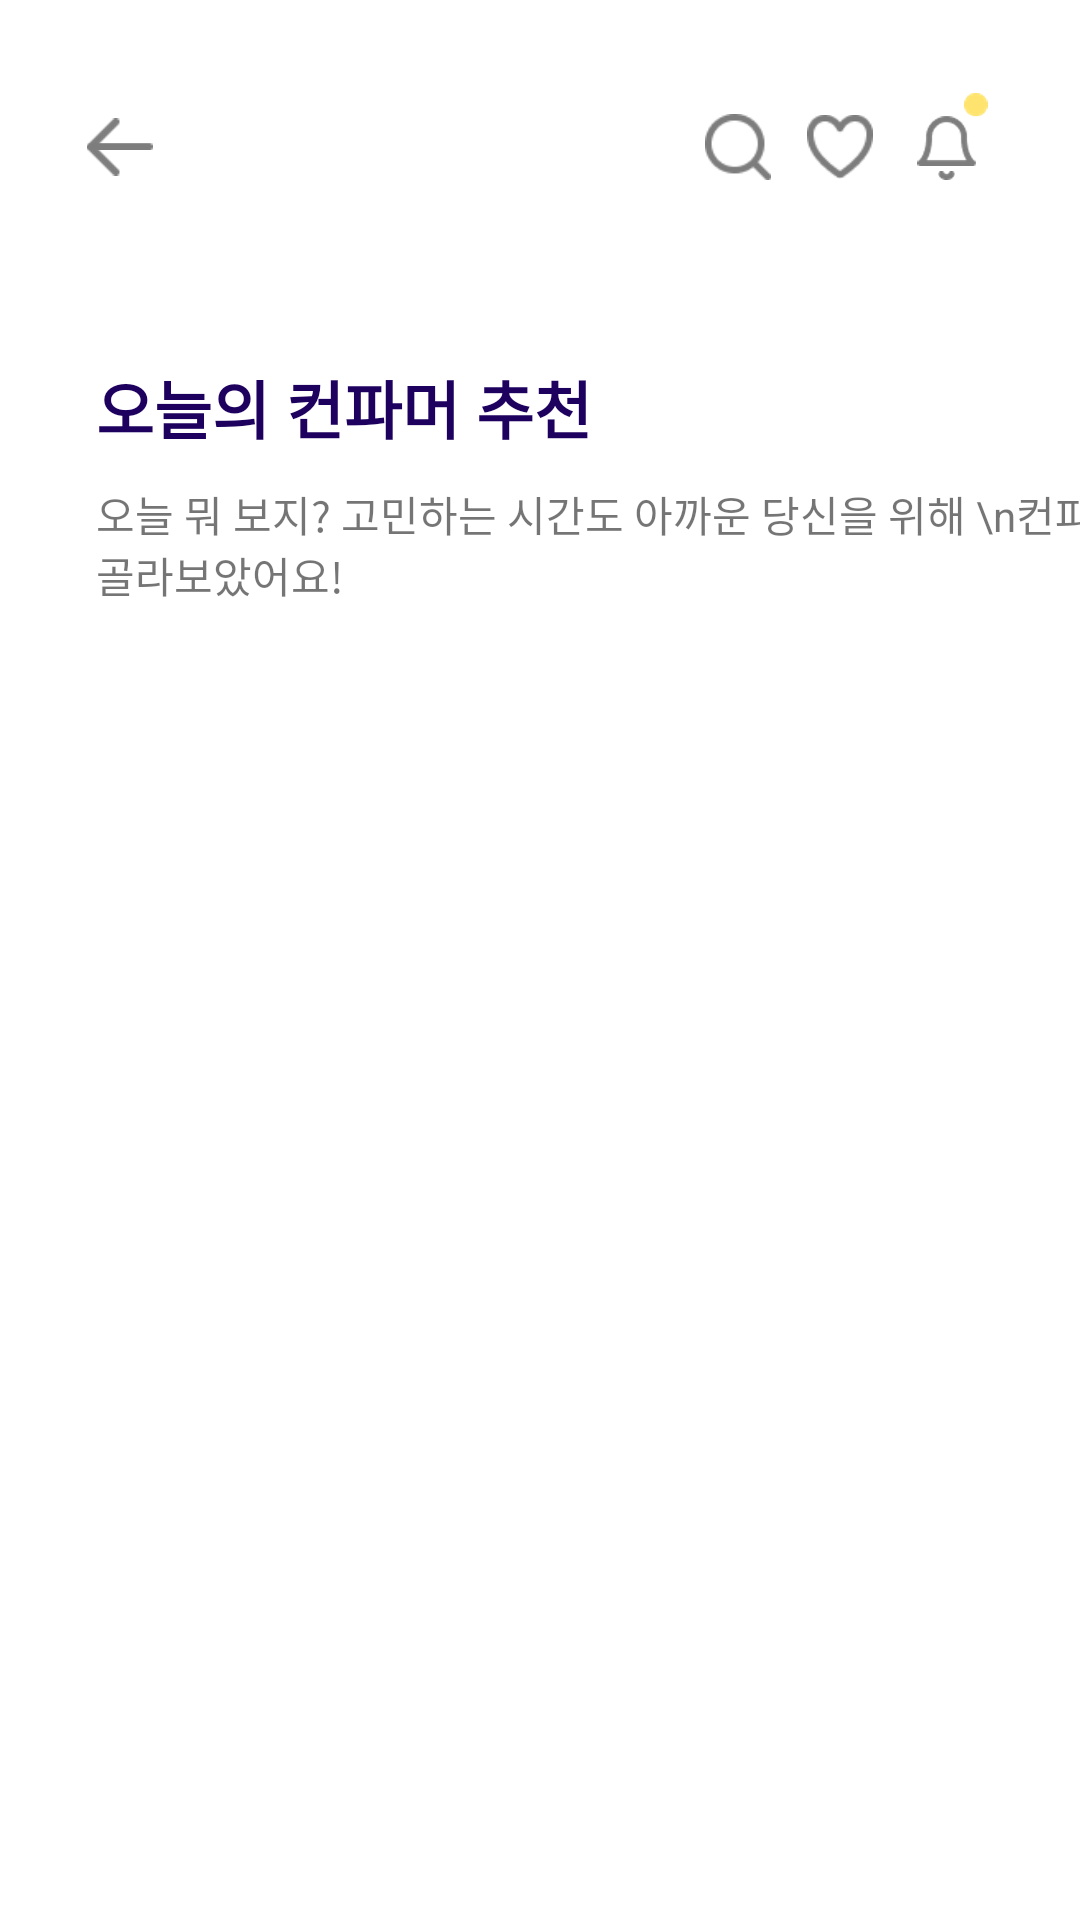

Named icons in this screenshot (1080w x 1920h) and their centers, point (x, y):
back: point (120, 147)
bell: point (952, 136)
heartgray: point (840, 146)
search: point (738, 147)
